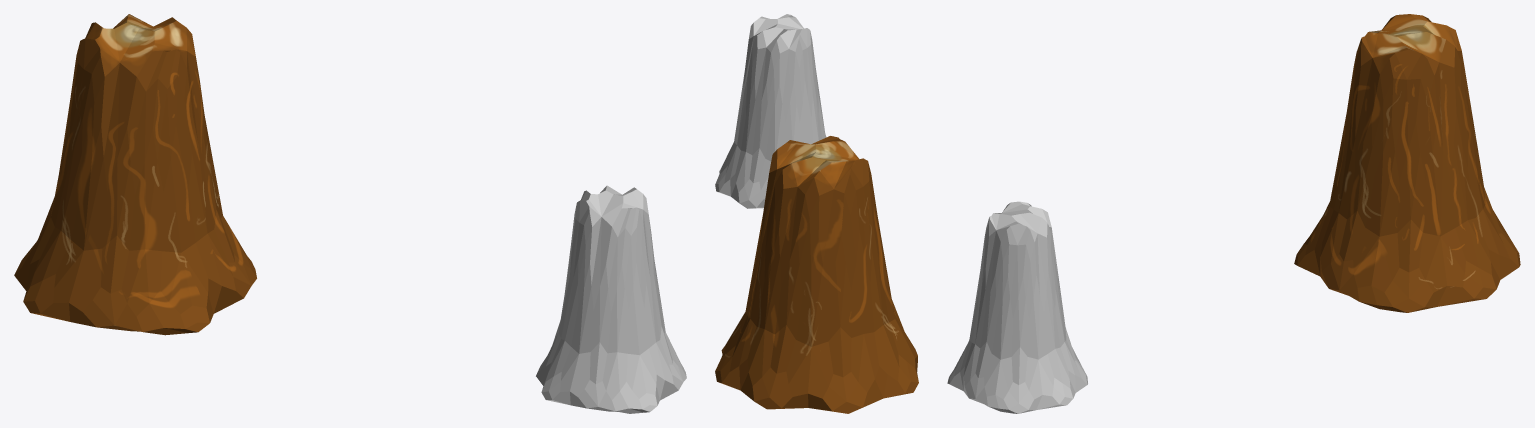
File: bush2.obj
3 renders of one model, left to right at view 1: azimuth 30°, elevation 25°; view 2: azimuth 150°, elevation 25°; view 3: azimuth 270°, elevation 25°, orthographic. The views are drawn at different scales.
Parts seen in each view (by area): view 1: double_bush_Cylinder.002_Material.002, double_bush_Cylinder.002_Material.010; view 2: double_bush_Cylinder.002_Material.002, double_bush_Cylinder.002_Material.010; view 3: double_bush_Cylinder.002_Material.002, double_bush_Cylinder.002_Material.010.
Boxes of the visible parts, box(x1,y1,x2,y2) form: double_bush_Cylinder.002_Material.002: box(14, 14, 256, 335); double_bush_Cylinder.002_Material.010: box(536, 185, 686, 413); double_bush_Cylinder.002_Material.002: box(715, 136, 918, 413); double_bush_Cylinder.002_Material.010: box(715, 14, 826, 208); double_bush_Cylinder.002_Material.002: box(1294, 14, 1520, 312); double_bush_Cylinder.002_Material.010: box(947, 201, 1087, 413).
Bounding box in the file's own units: 0.5965 × 0.3416 × 0.7462.
